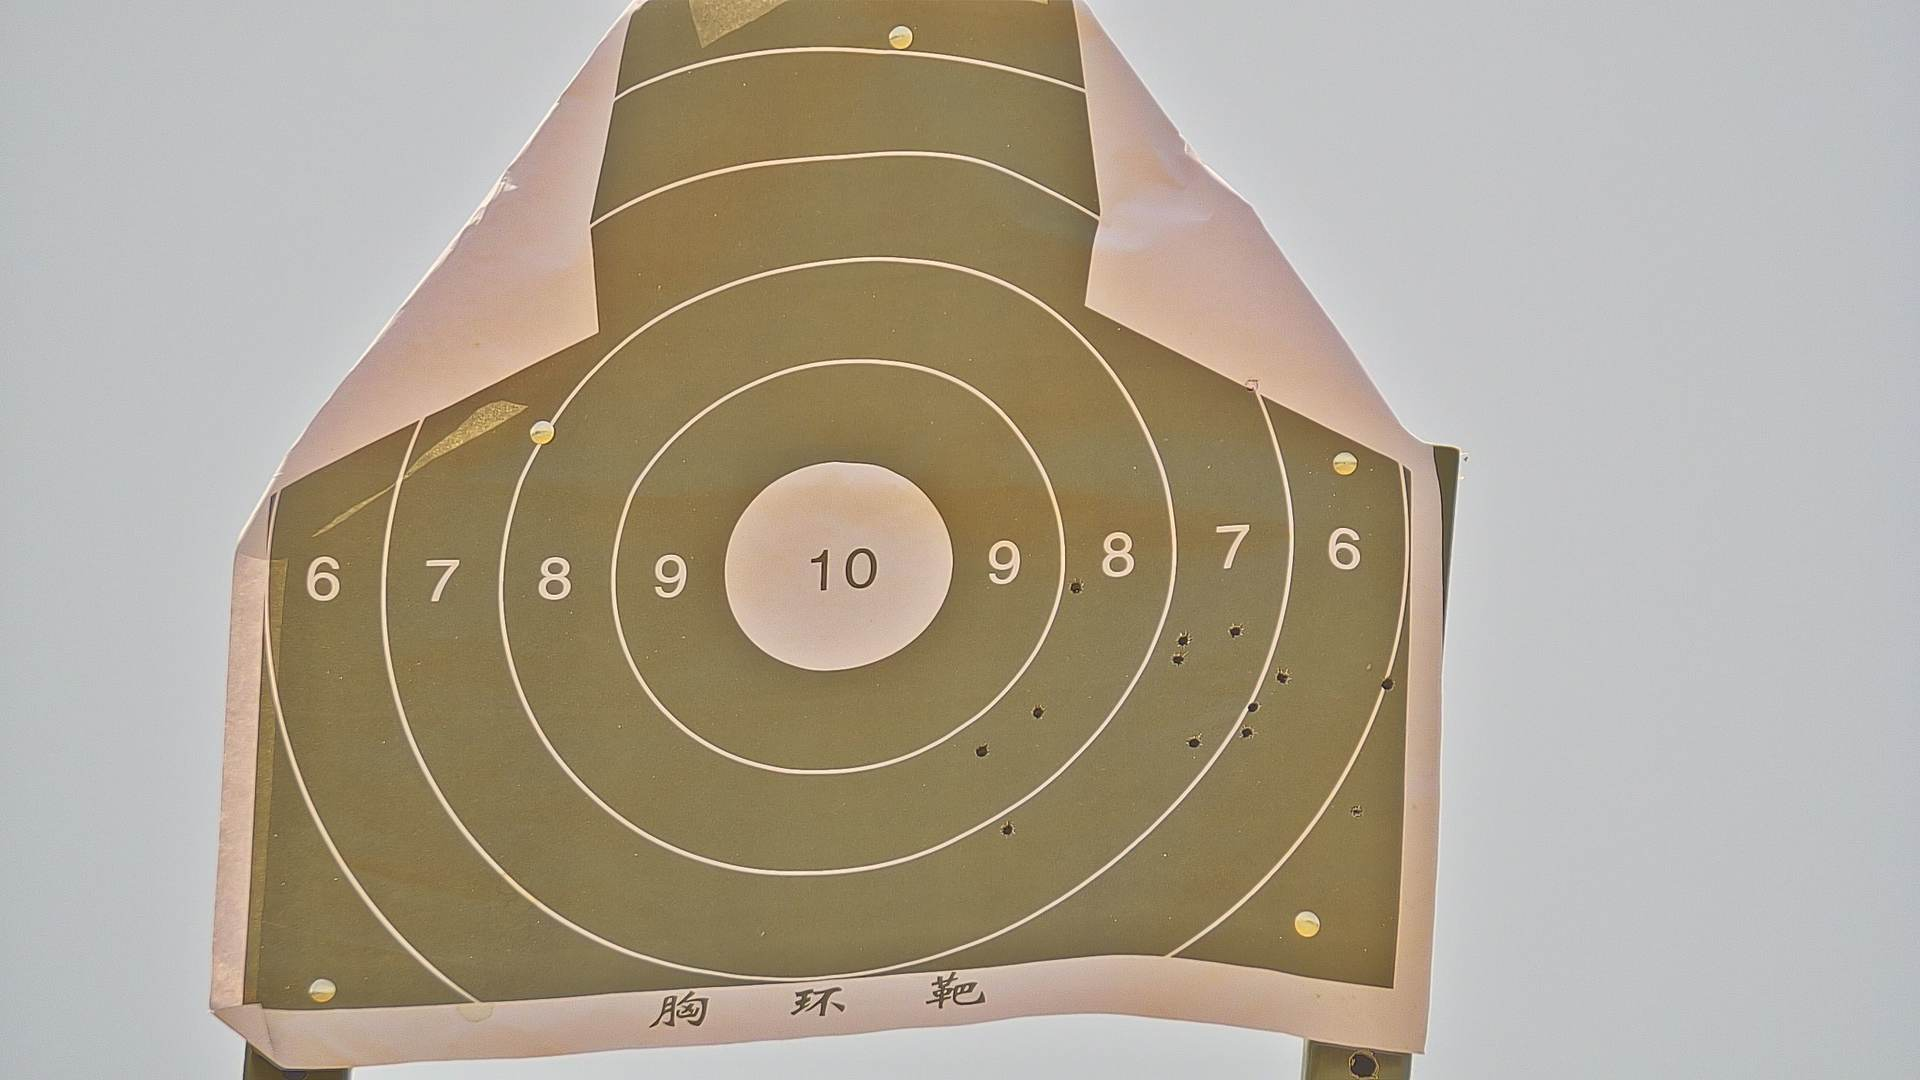hole: (1068, 579, 1083, 593), (975, 744, 989, 758), (1276, 670, 1291, 684), (1002, 822, 1015, 837), (1379, 676, 1395, 690), (1188, 735, 1201, 748), (1350, 804, 1364, 818), (1033, 705, 1044, 719), (1247, 702, 1261, 713), (1171, 654, 1185, 665), (1230, 624, 1241, 638), (1178, 633, 1189, 645), (1241, 729, 1255, 737)
kernel: (833, 567, 837, 574)
target: (251, 7, 1415, 984)
ten: (723, 462, 959, 673)
